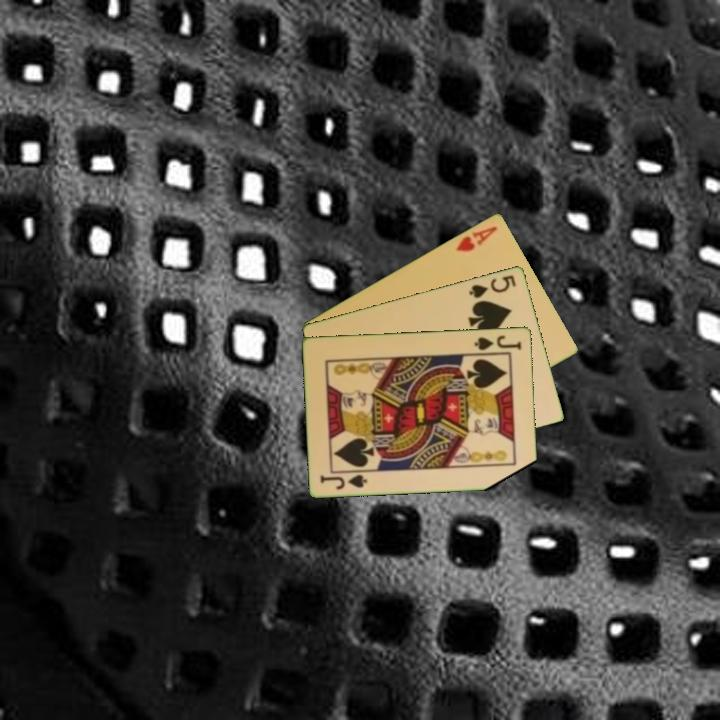5s: (465, 271, 519, 301)
Ah: (452, 222, 500, 254)
Js: (471, 331, 524, 353), (317, 470, 370, 492)
